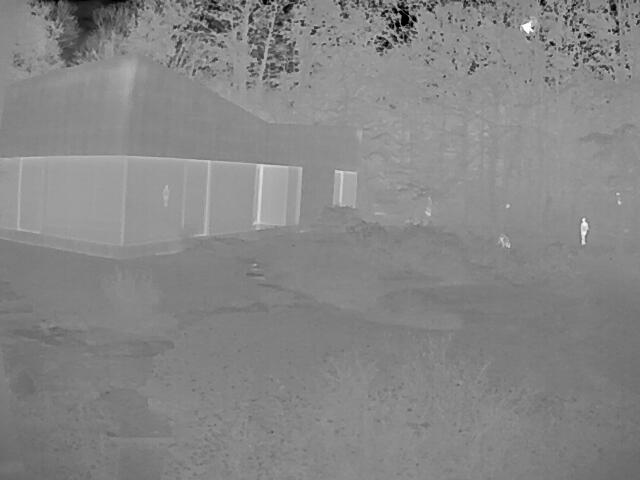person: (576, 216, 587, 244), (160, 185, 169, 205)
